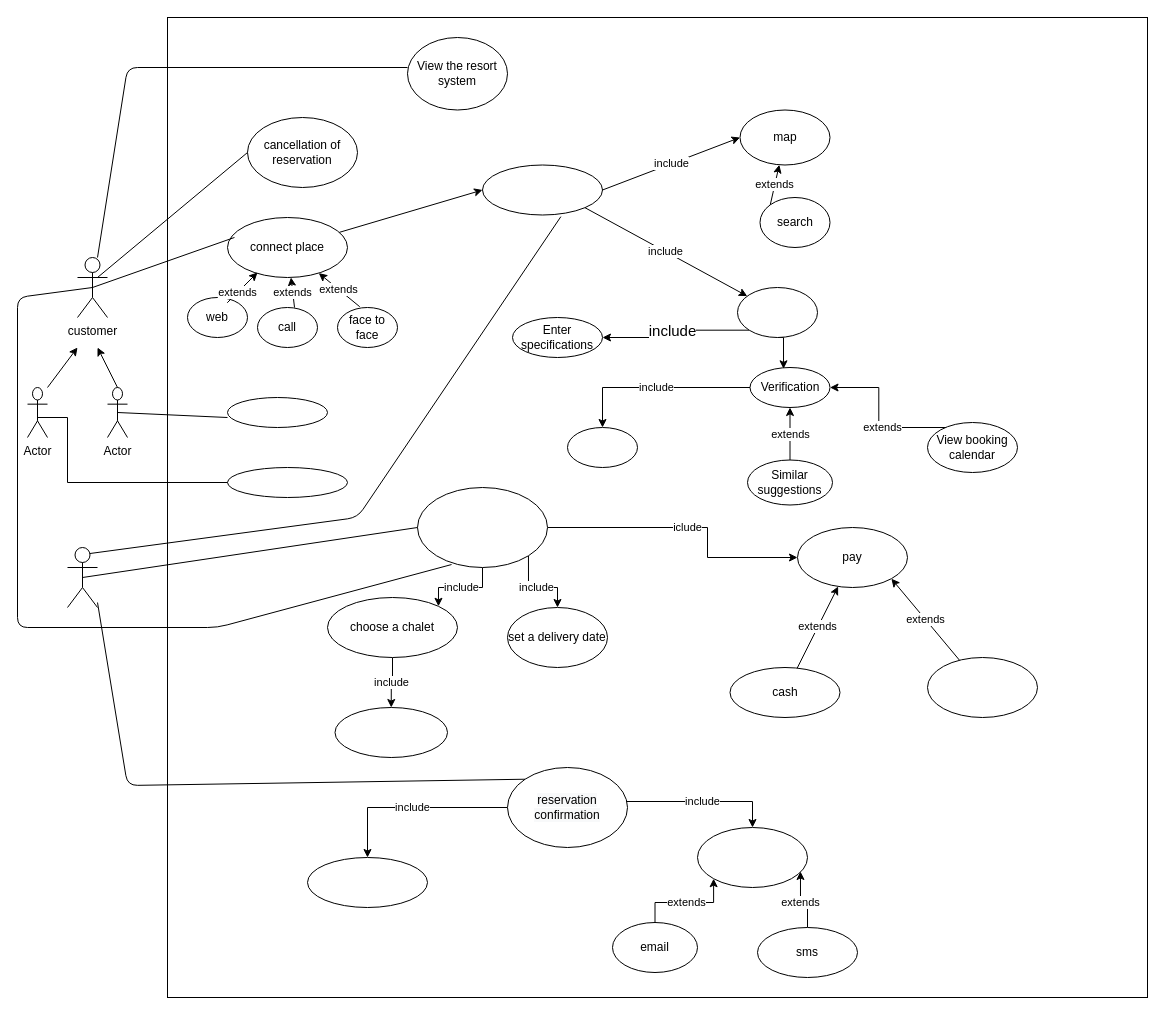
Some shapes in this 1165 by 1015 pixel diagram are drawn without their labels. Each missing label, with the centre of its shape:
"Booking process" goes at point 777,312.
"card" goes at point 982,687.
"complete the reservation" goes at point 482,527.
"create account" goes at point 287,482.
"fill in customer data" goes at point 391,732.
"HR" goes at point 82,577.
"inquiries" goes at point 542,189.
"login" goes at point 277,412.
"send message" goes at point 752,857.
"Show details" goes at point 602,447.
"update chalet status" goes at point 367,882.
